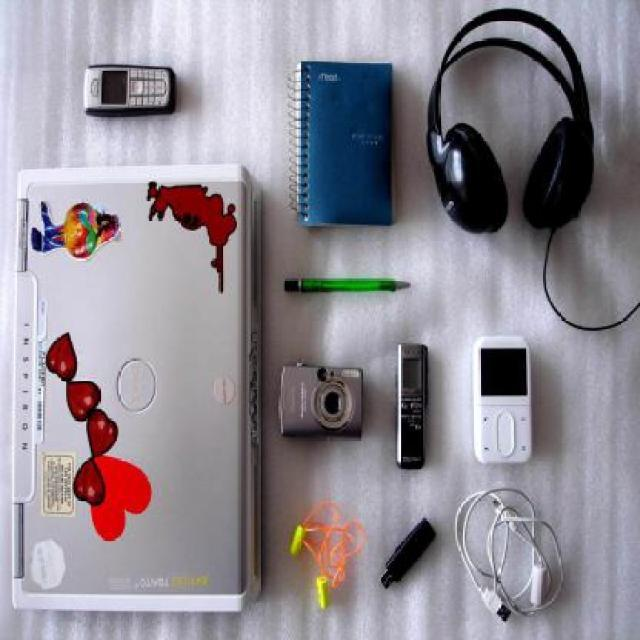earphone: (432, 18, 590, 238)
laptop_computer: (0, 173, 273, 606)
